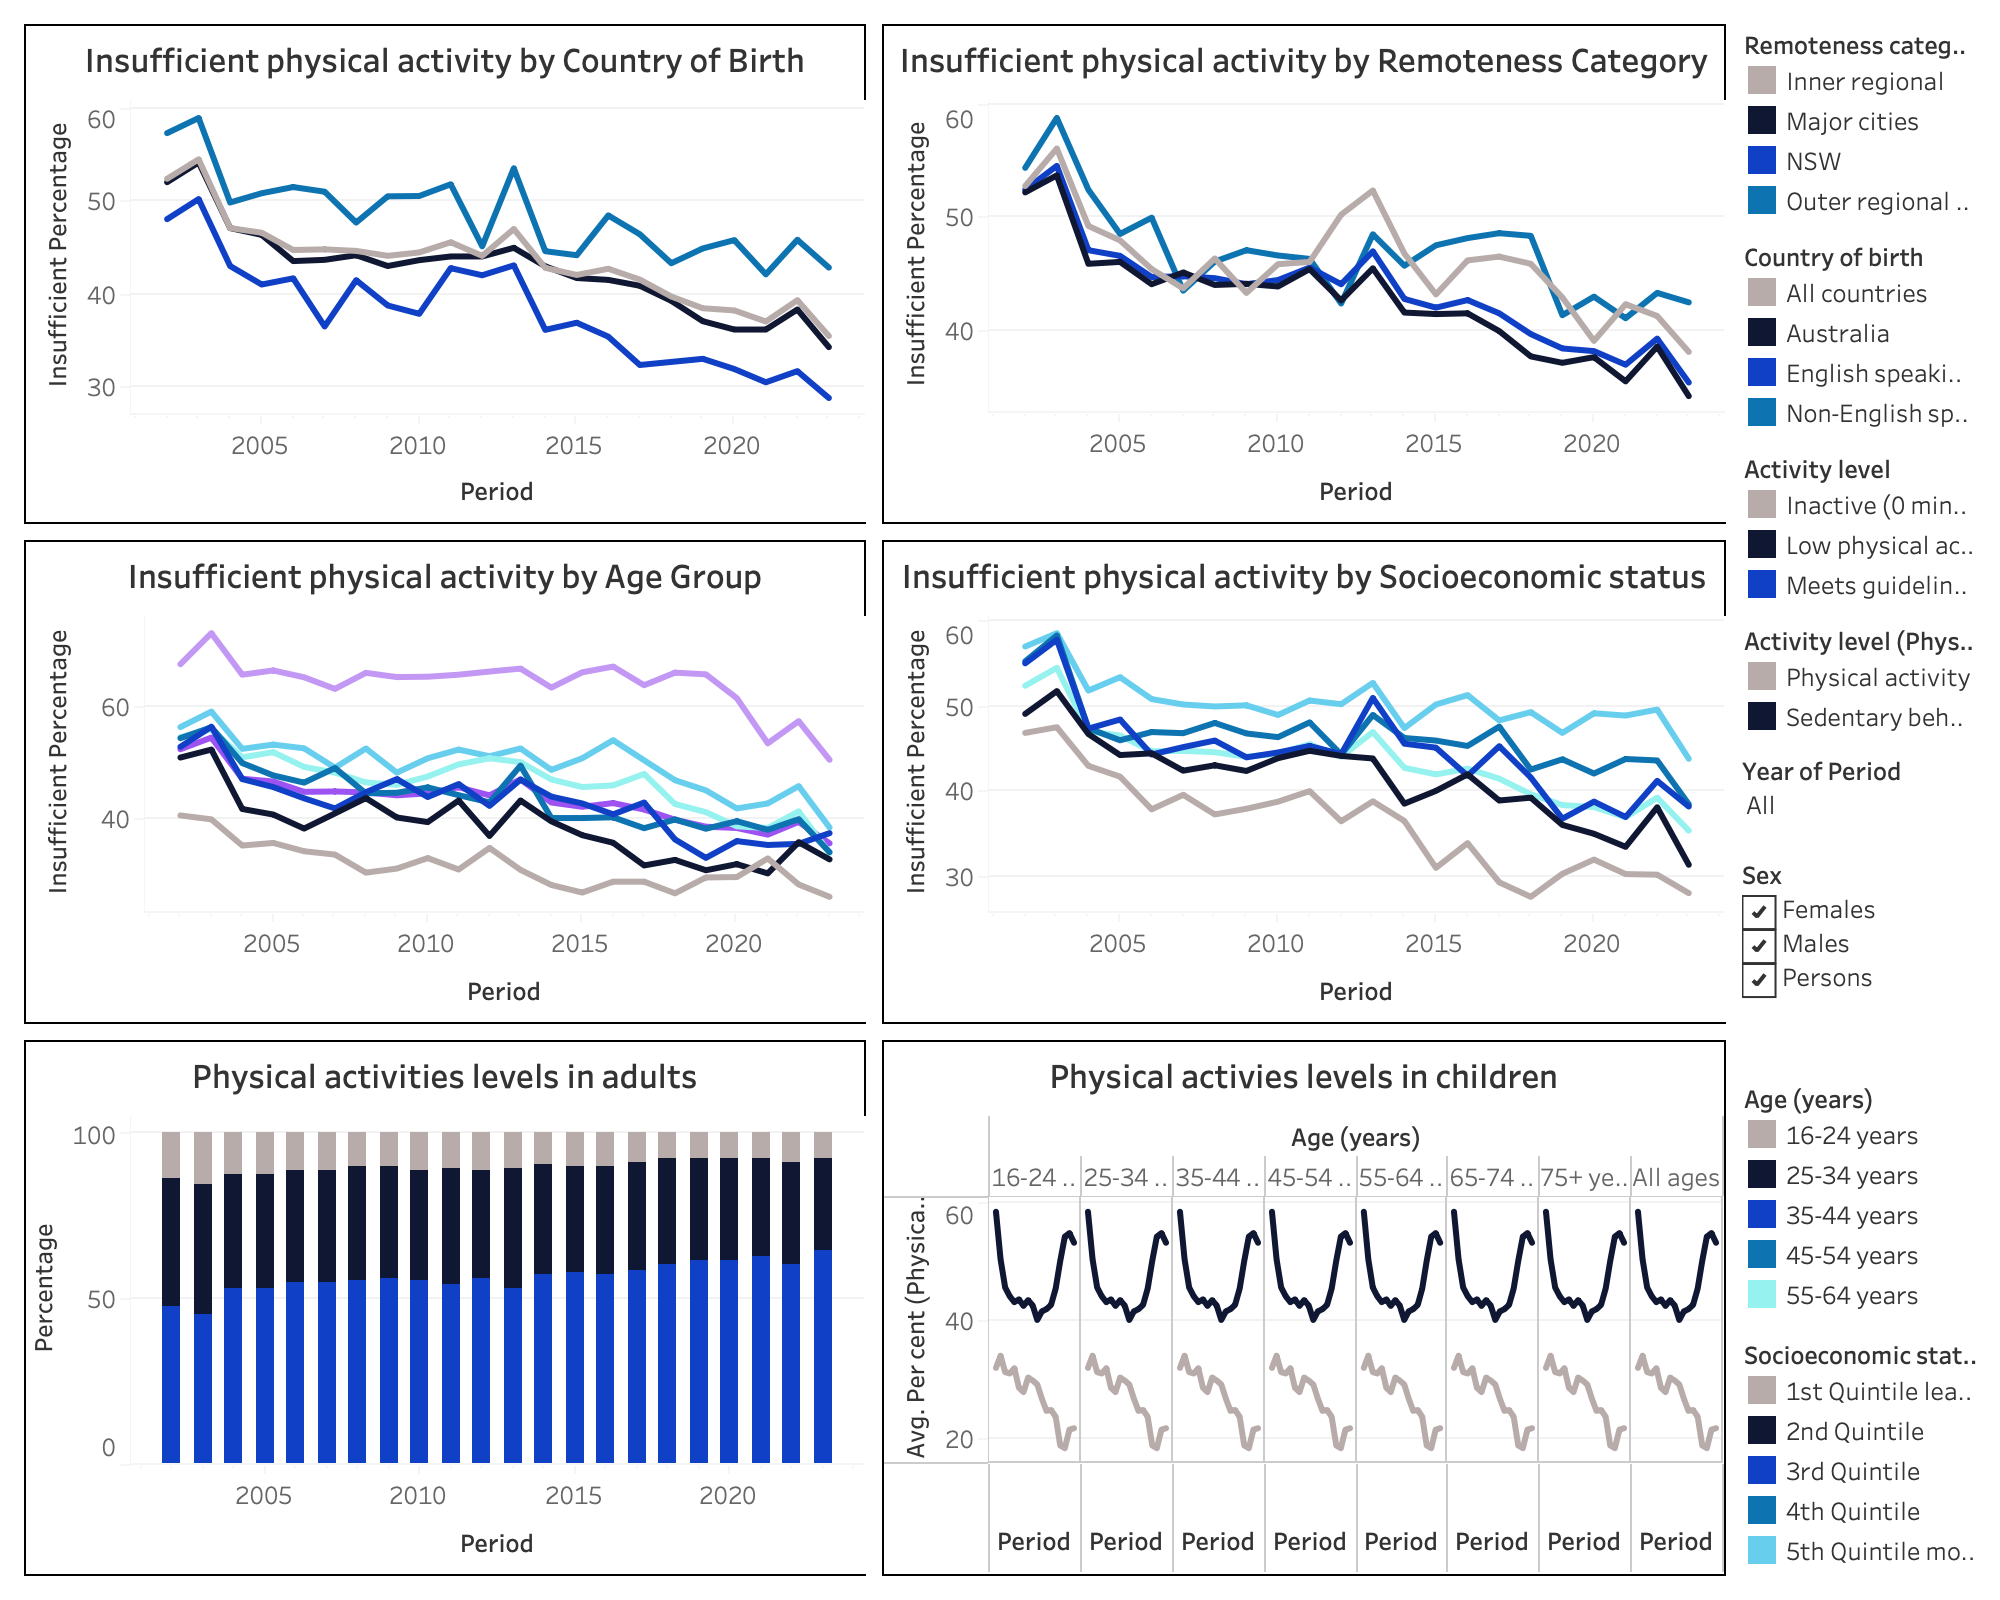

Layout of this report page (visuals, bound fields, positions):
{"tool":"tableau","page":{"name":"Physical Activity","canvas":[1000,800],"ordinal":6},"visuals":[{"type":"worksheet","title":"Physical COB","mark":"Automatic","rows":["Per cent (Country of Birth.csv)"],"cols":["Period (Country of Birth.csv)"],"box":[8,8,429.5,258]},{"type":"worksheet","title":"Physical Remoteness Cateogry ","mark":"Line","rows":["Per cent (Remoteness.csv)"],"cols":["Period (Remoteness.csv)"],"box":[437.5,8,429.5,258]},{"type":"legend","title":"Physical Remoteness Cateogry ","param":"[federated.1pg8rkm0schznp1h1hrr10ivgukn].[none:Remoteness category:nk]","box":[867,8,125,106]},{"type":"legend","title":"Physical COB","param":"[federated.1pg8rkm0schznp1h1hrr10ivgukn].[none:Country of birth:nk]","box":[867,114,125,106]},{"type":"legend","title":"Physical adult","param":"[federated.1pg8rkm0schznp1h1hrr10ivgukn].[none:Activity level:nk]","box":[867,220,125,86]},{"type":"worksheet","title":"Physical Age","mark":"Automatic","rows":["Per cent"],"cols":["Period"],"box":[8,266,429.5,250]},{"type":"worksheet","title":"Physical Socieconomy","mark":"Automatic","rows":["Per cent (SocialEconomic.csv)"],"cols":["Period (SocialEconomic.csv)"],"box":[437.5,266,429.5,250]},{"type":"legend","title":"Physical Children","param":"[federated.1pg8rkm0schznp1h1hrr10ivgukn].[none:Activity level (Physical activity","box":[867,306,125,66]},{"type":"filter","title":"Physical Age","param":"[federated.1pg8rkm0schznp1h1hrr10ivgukn].[yr:Period:ok]","box":[867,372,125,52]},{"type":"filter","title":"Physical Age","param":"[federated.1pg8rkm0schznp1h1hrr10ivgukn].[none:Sex:nk]","box":[867,424,125,108]},{"type":"worksheet","title":"Physical adult","mark":"Bar","rows":["Per cent (Physical activity by activity leval and sex.csv)"],"cols":["Period (Physical activity by activity leval and sex.csv)"],"box":[8,516,429,276]},{"type":"worksheet","title":"Physical Children","mark":"Automatic","rows":["Per cent (Physical activity by children.csv)"],"cols":["Age (years)","Period (Physical activity by children.csv)"],"box":[437,516,430,276]},{"type":"legend","title":"Physical Age","param":"[federated.1pg8rkm0schznp1h1hrr10ivgukn].[none:Age (years):nk]","box":[867,535,125,128.5]},{"type":"legend","title":"Physical Socieconomy","param":"[federated.1pg8rkm0schznp1h1hrr10ivgukn].[none:Socioeconomic status:nk]","box":[867,663.5,125,128.5]}]}

Visuals, with their boxes in screenshot pixels (x1, y1, x2, y2), scaled from the page's 1000x800 canvas onto the 2000x1600 screenshot:
"Physical COB" worksheet: (x1=16, y1=16, x2=875, y2=532)
"Physical Remoteness Cateogry " worksheet (Line marks): (x1=875, y1=16, x2=1734, y2=532)
"Physical Remoteness Cateogry " legend: (x1=1734, y1=16, x2=1984, y2=228)
"Physical COB" legend: (x1=1734, y1=228, x2=1984, y2=440)
"Physical adult" legend: (x1=1734, y1=440, x2=1984, y2=612)
"Physical Age" worksheet: (x1=16, y1=532, x2=875, y2=1032)
"Physical Socieconomy" worksheet: (x1=875, y1=532, x2=1734, y2=1032)
"Physical Children" legend: (x1=1734, y1=612, x2=1984, y2=744)
"Physical Age" filter: (x1=1734, y1=744, x2=1984, y2=848)
"Physical Age" filter: (x1=1734, y1=848, x2=1984, y2=1064)
"Physical adult" worksheet (Bar marks): (x1=16, y1=1032, x2=874, y2=1584)
"Physical Children" worksheet: (x1=874, y1=1032, x2=1734, y2=1584)
"Physical Age" legend: (x1=1734, y1=1070, x2=1984, y2=1327)
"Physical Socieconomy" legend: (x1=1734, y1=1327, x2=1984, y2=1584)
